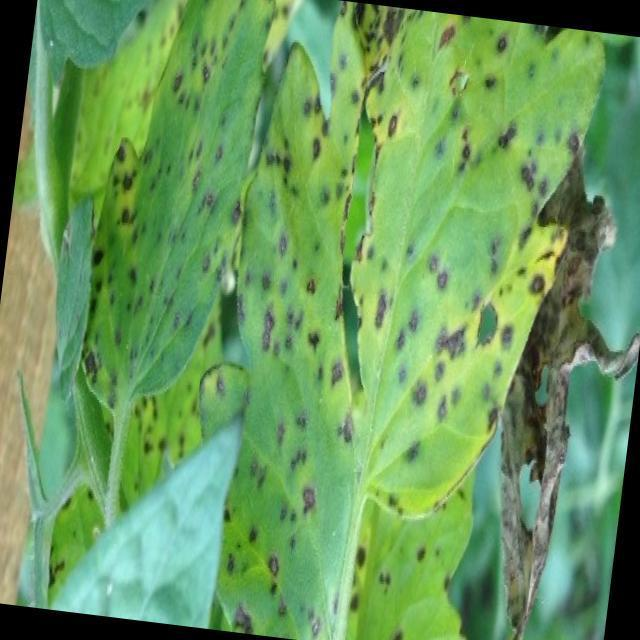Septoria: (345, 10, 583, 443), (207, 69, 387, 640), (77, 0, 274, 401)
